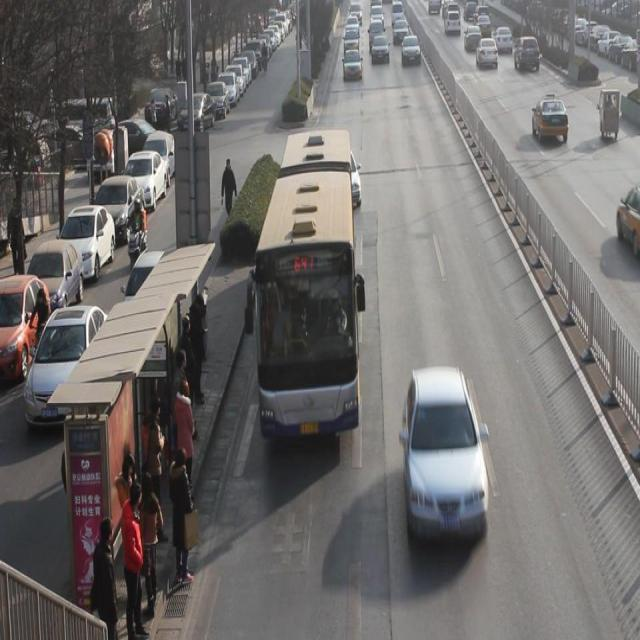car: (402, 368, 488, 541), (532, 94, 568, 143), (514, 37, 541, 72), (476, 37, 499, 68), (343, 50, 363, 82), (401, 35, 421, 66), (494, 26, 513, 53), (464, 26, 483, 52), (372, 35, 390, 62)
van: (260, 132, 357, 432)
